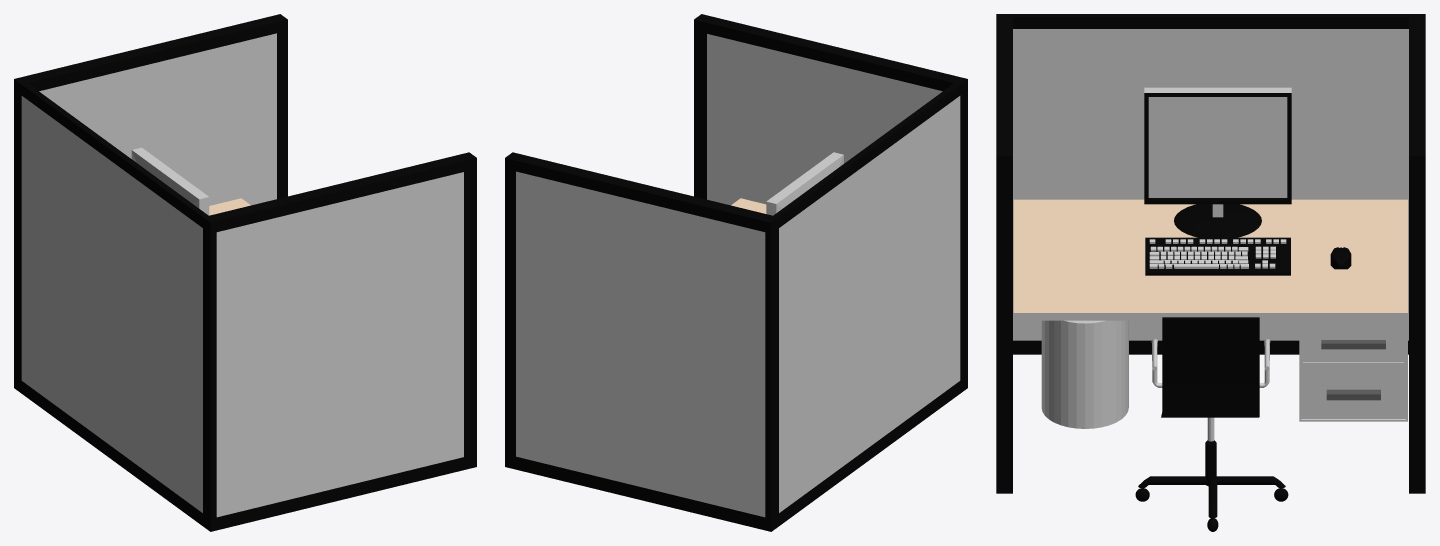
File: office cubical merged.fbx
3 views of the same model, side by side, from view 1: azimuth 30°, elevation 25°; view 2: azimuth 150°, elevation 25°; view 3: azimuth 270°, elevation 25° (orthographic). The views are drawn at different scales.
Visible parts, largest first — view 1: Cylinder; view 2: Cylinder; view 3: Cylinder.
Part boxes in pixels (left/top/right/bottom): Cylinder: left=14, top=14, right=476, bottom=531; Cylinder: left=505, top=14, right=967, bottom=531; Cylinder: left=996, top=14, right=1425, bottom=531.
Size of the model in its own units: 728 by 647 by 738.
